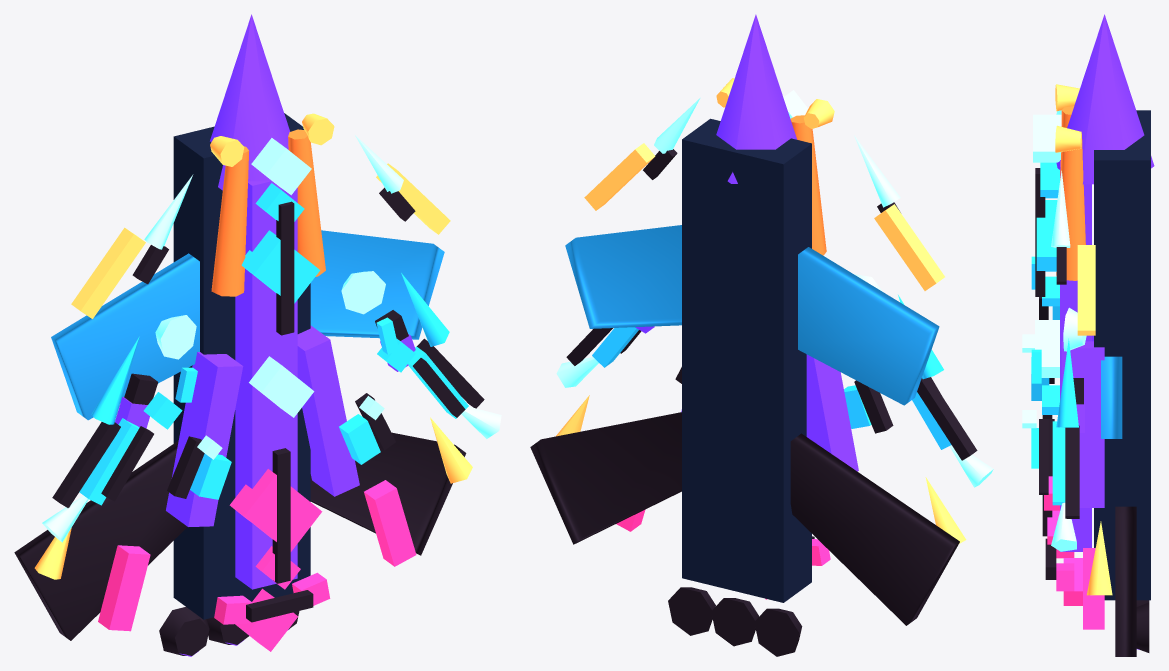
File: boss-03.glb
The picture shows the model from 3 angles, left to right: view 1: azimuth 30°, elevation 25°; view 2: azimuth 150°, elevation 25°; view 3: azimuth 270°, elevation 25°; orthographic projection. The views are drawn at different scales.
Parts seen in each view (by area): view 1: long_black_keel, raised_energy_spine, left_rear_blade, left_forward_blade, right_forward_blade, right_rear_blade, right_spine_fin, needle_command_nose, left_spine_fin, split_forward_cannon_l, rear_prism_core, left_rear_warning_fin (+41 smaller); view 2: long_black_keel, left_rear_blade, left_forward_blade, right_rear_blade, right_forward_blade, needle_command_nose, left_spine_fin, left_crown_petal_emitter, engine_nozzle_-0.28, engine_nozzle_0.28, engine_nozzle_0.00, left_phase_curtain_outer_frame (+12 smaller); view 3: long_black_keel, needle_command_nose, right_spine_fin, right_rear_blade, split_forward_cannon_r, raised_energy_spine, right_forward_blade, right_crown_petal_emitter, right_phase_curtain_outer_frame, middle_spine_lens, center_crown_prism, front_prism_core (+29 smaller).
Boxes of the visible parts, x1=… form: long_black_keel: x1=173, y1=113, x2=310, y2=619; raised_energy_spine: x1=235, y1=181, x2=297, y2=589; left_rear_blade: x1=14, y1=440, x2=187, y2=640; left_forward_blade: x1=51, y1=253, x2=199, y2=420; right_forward_blade: x1=310, y1=230, x2=444, y2=339; right_rear_blade: x1=310, y1=432, x2=466, y2=555; right_spine_fin: x1=297, y1=325, x2=359, y2=496; needle_command_nose: x1=210, y1=14, x2=290, y2=190; left_spine_fin: x1=166, y1=352, x2=243, y2=526; split_forward_cannon_l: x1=211, y1=146, x2=249, y2=296; rear_prism_core: x1=229, y1=469, x2=322, y2=551; left_rear_warning_fin: x1=98, y1=545, x2=150, y2=631; long_black_keel: x1=682, y1=118, x2=811, y2=602; left_rear_blade: x1=790, y1=433, x2=959, y2=625; left_forward_blade: x1=798, y1=247, x2=939, y2=405; right_rear_blade: x1=530, y1=412, x2=681, y2=544; right_forward_blade: x1=565, y1=225, x2=681, y2=328; needle_command_nose: x1=716, y1=14, x2=796, y2=183; left_spine_fin: x1=806, y1=354, x2=858, y2=471; left_crown_petal_emitter: x1=874, y1=204, x2=944, y2=290; engine_nozzle_-0.28: x1=754, y1=608, x2=802, y2=656; engine_nozzle_0.28: x1=668, y1=587, x2=715, y2=635; engine_nozzle_0.00: x1=711, y1=598, x2=758, y2=646; left_phase_curtain_outer_frame: x1=917, y1=377, x2=977, y2=460; long_black_keel: x1=1094, y1=110, x2=1150, y2=600; needle_command_nose: x1=1056, y1=14, x2=1154, y2=184; right_spine_fin: x1=1061, y1=341, x2=1104, y2=507; right_rear_blade: x1=1115, y1=506, x2=1136, y2=656; split_forward_cannon_r: x1=1056, y1=139, x2=1085, y2=280; raised_energy_spine: x1=1060, y1=160, x2=1091, y2=551; right_forward_blade: x1=1101, y1=356, x2=1122, y2=438; right_crown_petal_emitter: x1=1077, y1=245, x2=1095, y2=335; right_phase_curtain_outer_frame: x1=1065, y1=425, x2=1079, y2=518; middle_spine_lens: x1=1035, y1=320, x2=1059, y2=377; center_crown_prism: x1=1033, y1=114, x2=1061, y2=162; front_prism_core: x1=1036, y1=200, x2=1057, y2=271.
Size of the model in its own units: 2.8 by 3.82 by 0.74.
